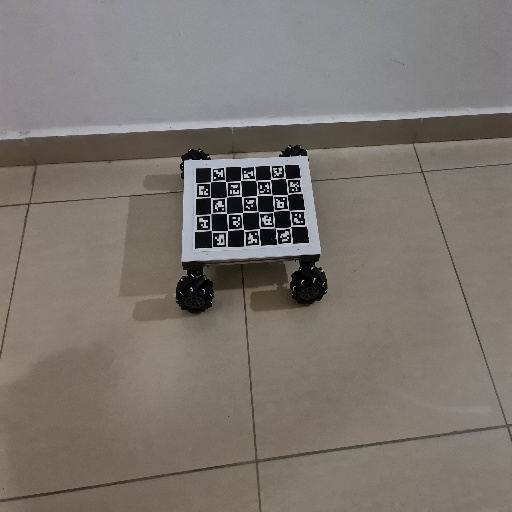Omniwheel: (174, 144, 329, 315)
